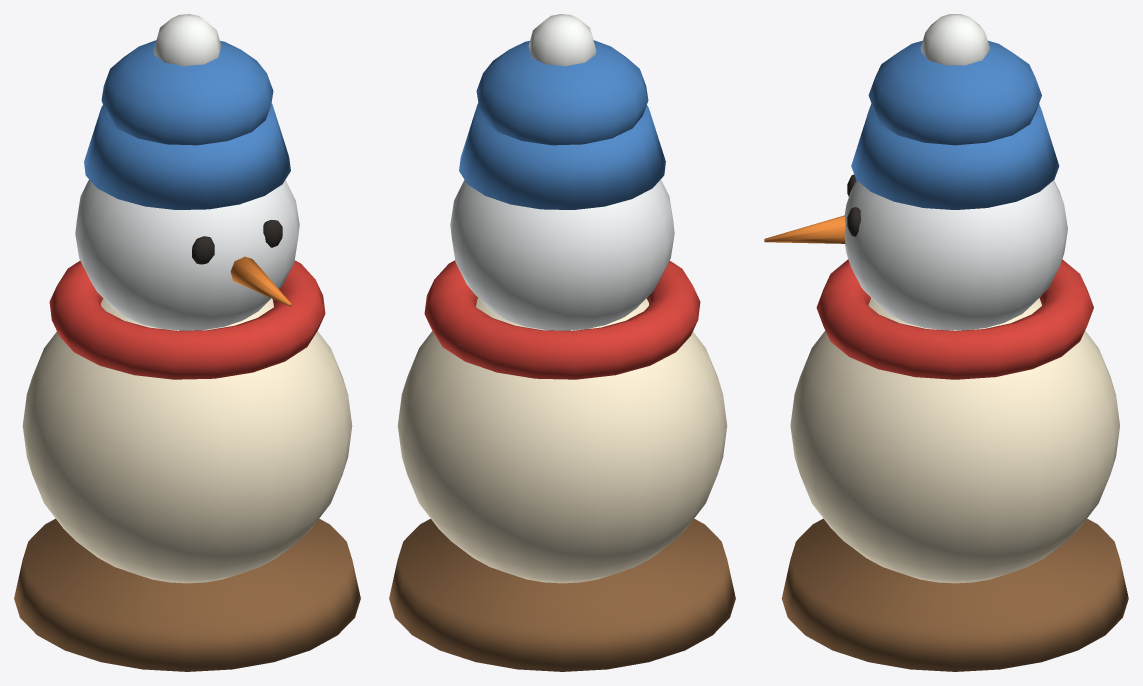
File: snowman-lamp.glb
3 views of the same model, side by side, from view 1: azimuth 30°, elevation 25°; view 2: azimuth 150°, elevation 25°; view 3: azimuth 270°, elevation 25° (orthographic).
Parts seen in each view (by area): view 1: lamp; view 2: lamp; view 3: lamp.
Boxes of the visible parts, bbox=[...] form: lamp: bbox=[14, 14, 360, 671]; lamp: bbox=[389, 14, 735, 671]; lamp: bbox=[764, 14, 1128, 671].
Size of the model in its own units: 0.4 by 0.74 by 0.4203.
